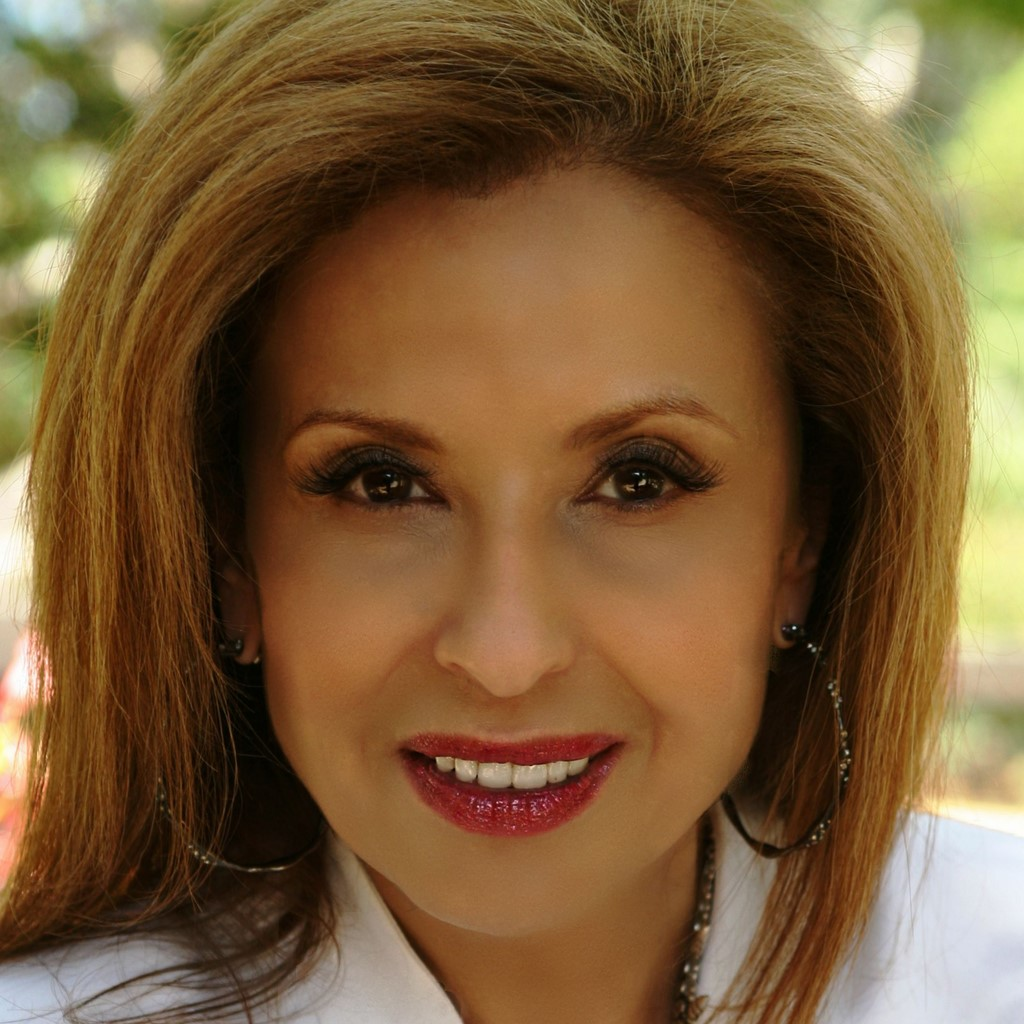sin_mascara: (238, 168, 836, 927)
